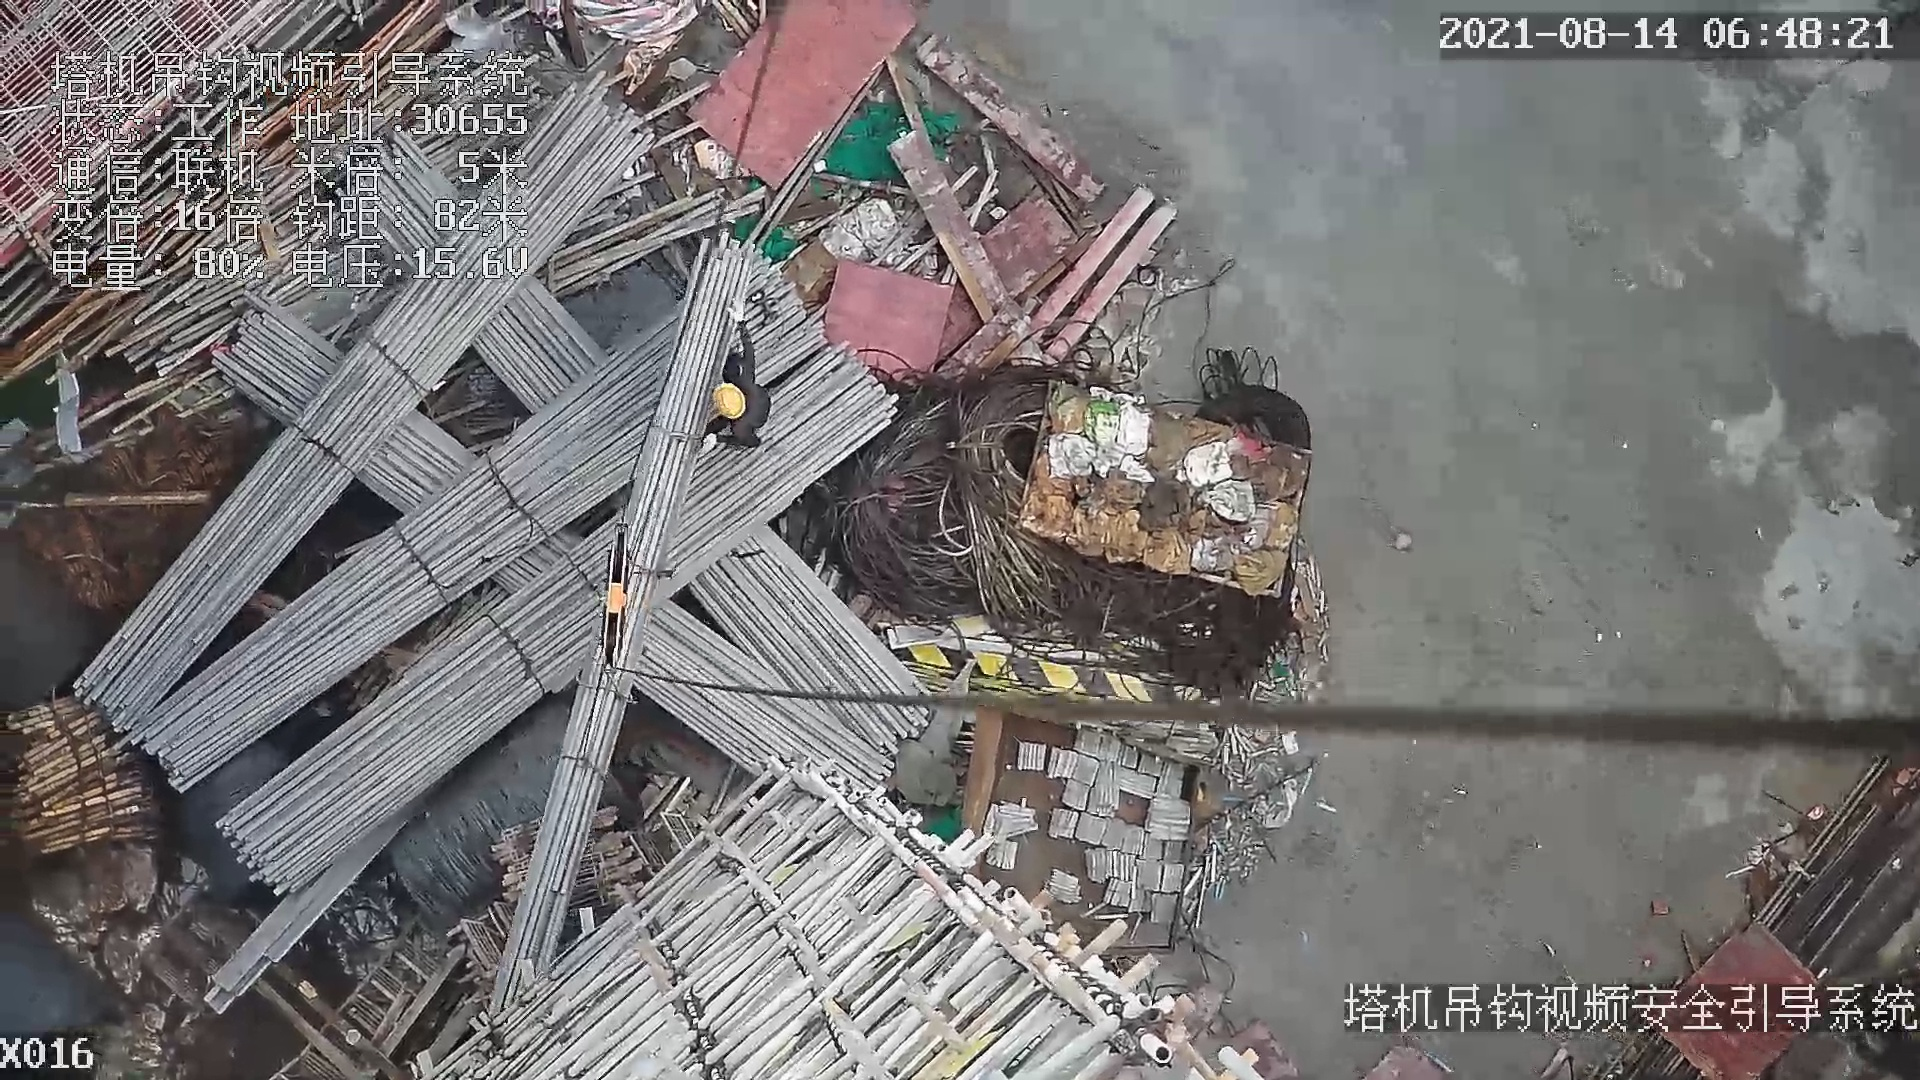board: (692, 2, 914, 208)
helmet: (703, 375, 747, 417)
hook: (597, 524, 637, 669)
person: (708, 297, 783, 468)
scaffold: (12, 693, 169, 857)
